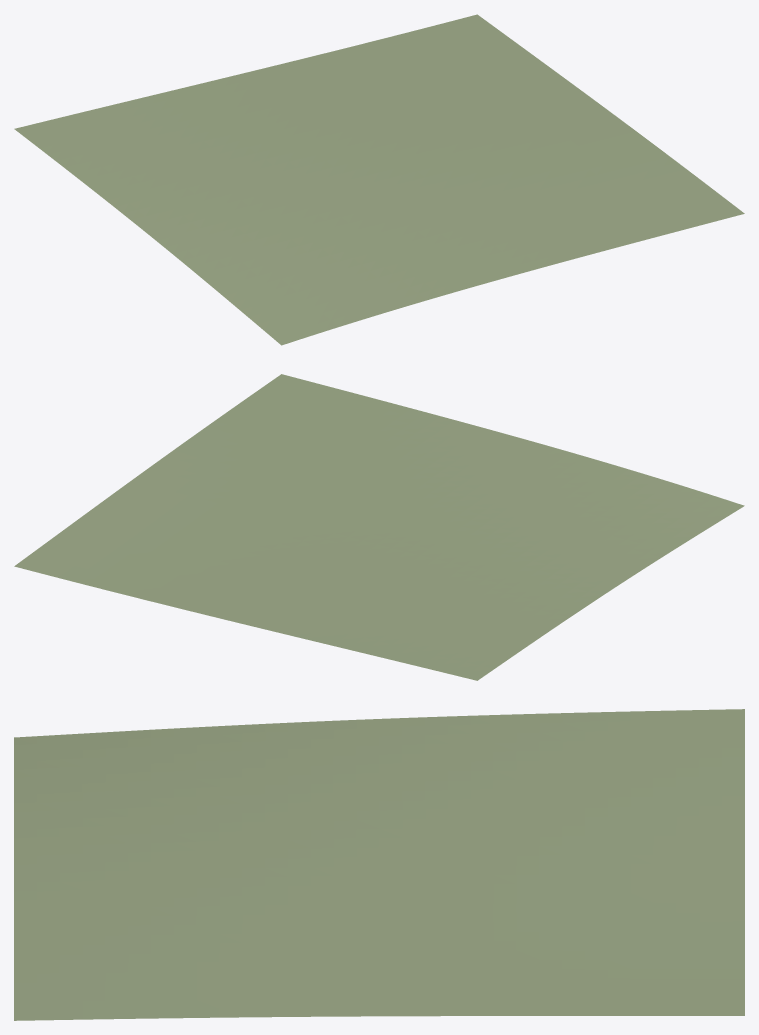
File: expanse-28-9.glb
3 renders of one model, top to bottom at view 1: azimuth 30°, elevation 25°; view 2: azimuth 150°, elevation 25°; view 3: azimuth 270°, elevation 25°, orthographic. The views are drawn at different scales.
Parts seen in each view (by area): view 1: expanse-28-9; view 2: expanse-28-9; view 3: expanse-28-9.
Part boxes in pixels (<box>): expanse-28-9: <box>14,14,744,345</box>; expanse-28-9: <box>14,374,744,680</box>; expanse-28-9: <box>14,709,744,1020</box>.
Size of the model in its own units: 256 by 11.75 by 256.
